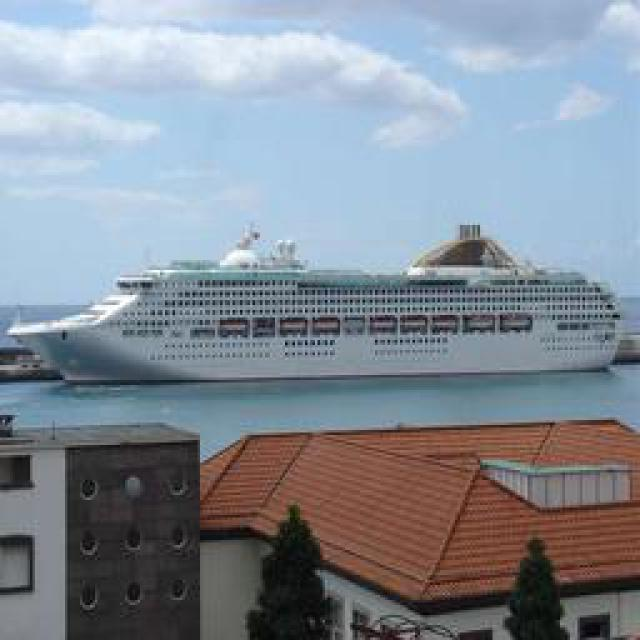Ship: (16, 238, 629, 386)
